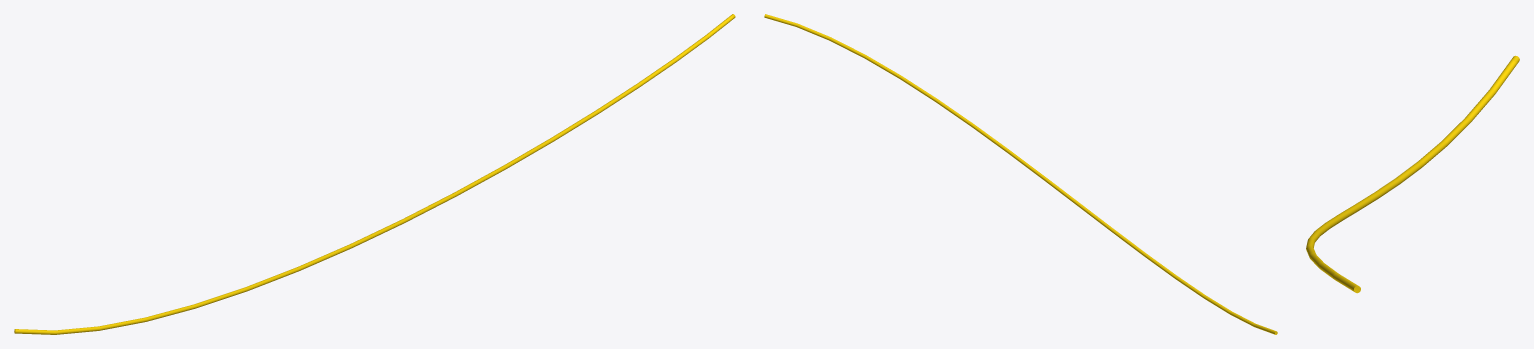
Rendered from Event_421364160_track_45.fbx.
3 renders of one model, left to right at view 1: azimuth 30°, elevation 25°; view 2: azimuth 150°, elevation 25°; view 3: azimuth 270°, elevation 25°, orthographic. The views are drawn at different scales.
Parts seen in each view (by area): view 1: Model; view 2: Model; view 3: Model.
Part boxes in pixels (box(x1,y1,x2,y2)): Model: box(14, 14, 735, 334); Model: box(764, 14, 1277, 334); Model: box(1306, 55, 1519, 293).
Size of the model in its own units: 6.8 by 1.89 by 1.14.
